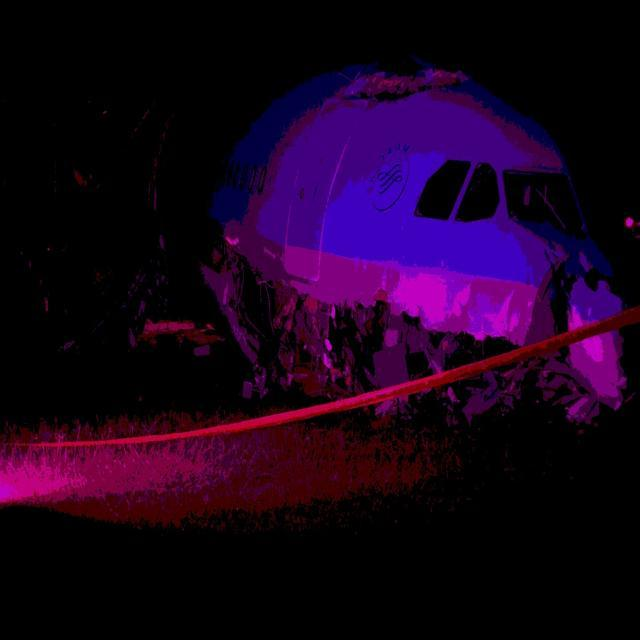Crack: (342, 65, 462, 107)
